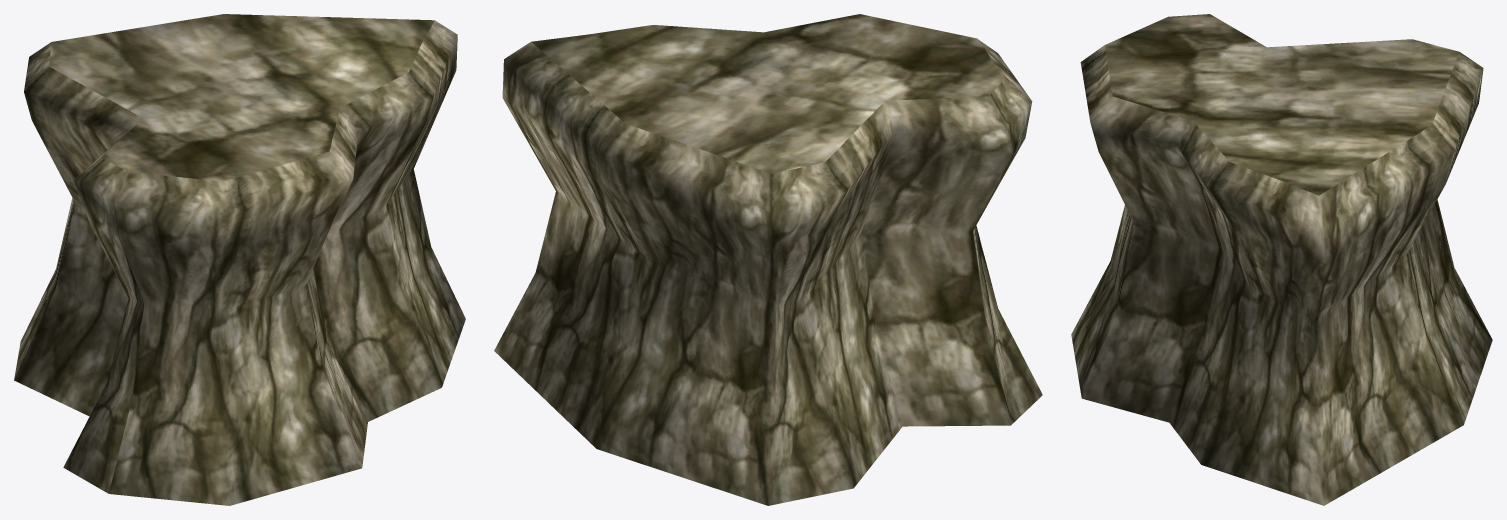
File: CB_NEWPLAYSURFACE_CB_PLAYSURFACE07.fbx
3 views of the same model, side by side, from view 1: azimuth 30°, elevation 25°; view 2: azimuth 150°, elevation 25°; view 3: azimuth 270°, elevation 25° (orthographic). The views are drawn at different scales.
Visible parts, largest first — view 1: CB_NEWPLAYSURFACE_CB_PLAYSURFACE07; view 2: CB_NEWPLAYSURFACE_CB_PLAYSURFACE07; view 3: CB_NEWPLAYSURFACE_CB_PLAYSURFACE07.
Part boxes in pixels (box(x1,y1,x2,y2)): CB_NEWPLAYSURFACE_CB_PLAYSURFACE07: box(14, 14, 465, 505); CB_NEWPLAYSURFACE_CB_PLAYSURFACE07: box(494, 14, 1042, 505); CB_NEWPLAYSURFACE_CB_PLAYSURFACE07: box(1071, 14, 1492, 505).
Bounding box in the file's own units: 71218 × 46271 × 60013.
2 materials, 2 textured.
